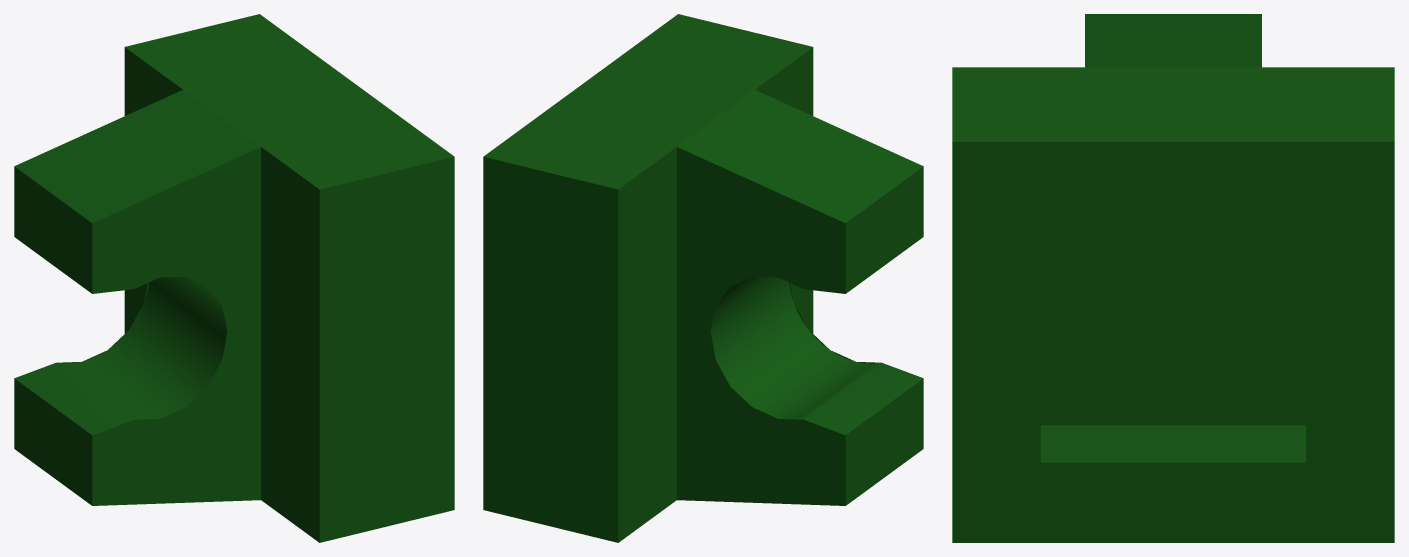
Rendered from tile_modified1*1_with_clip_green.obj.
3 views of the same model, side by side, from view 1: azimuth 30°, elevation 25°; view 2: azimuth 150°, elevation 25°; view 3: azimuth 270°, elevation 25° (orthographic). The views are drawn at different scales.
Bounding box in the file's own units: 18 × 20 × 20.
